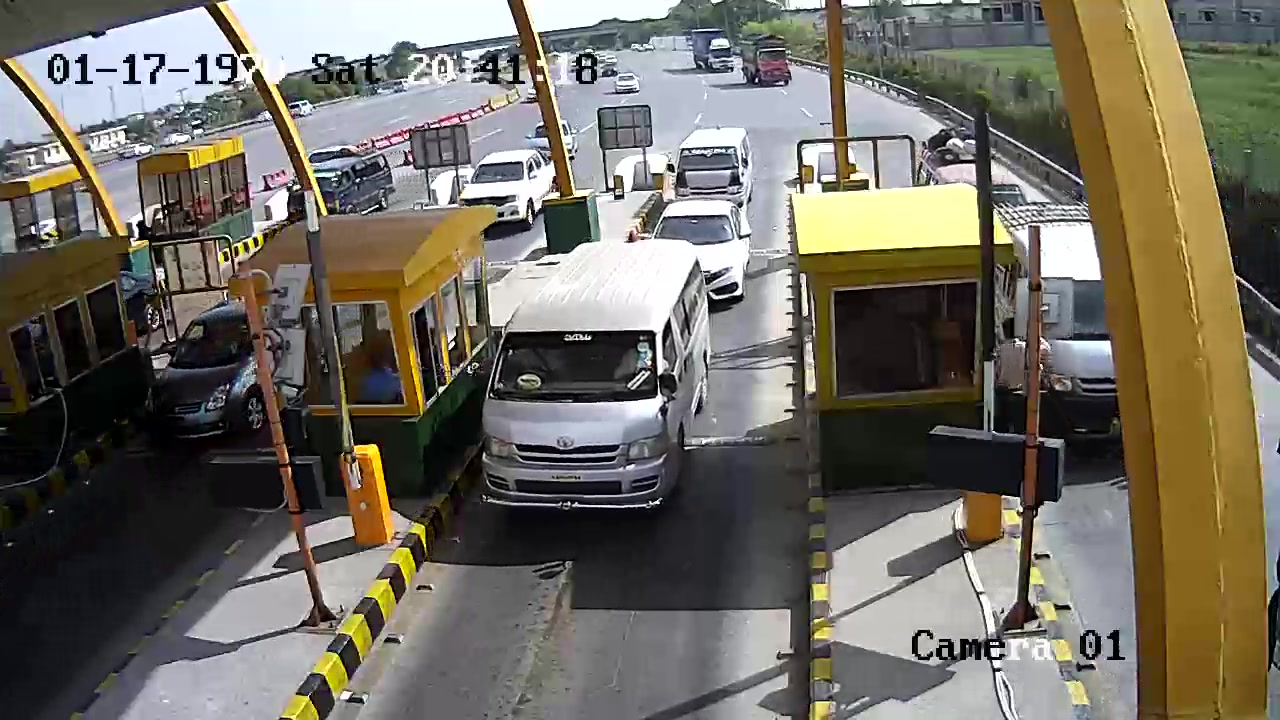F3: (477, 227, 717, 534)
